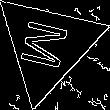M_E: (18, 17, 77, 74)
